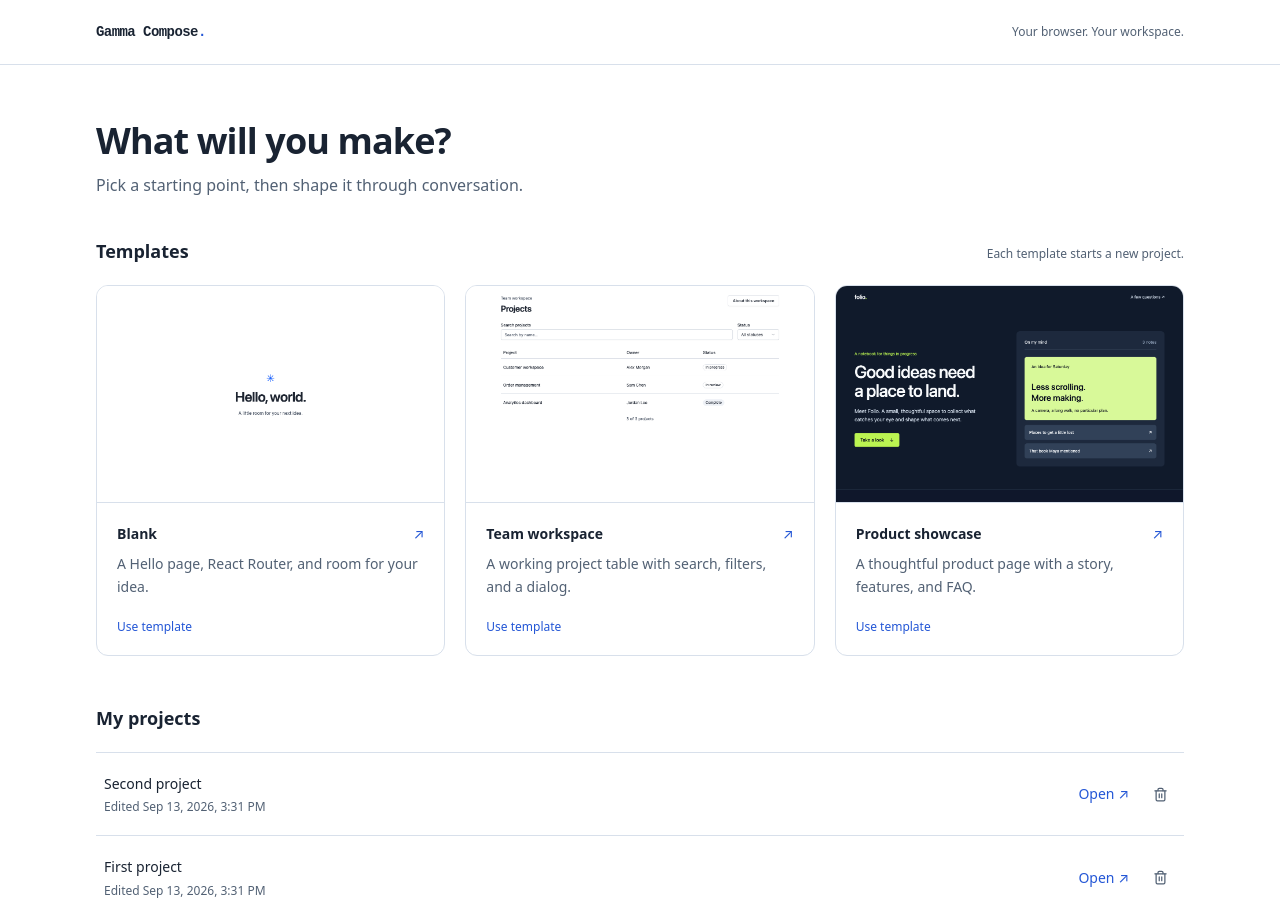
Test case: gallery and project navigation › confirms project deletion, supports cancellation and shows the empty state
The image size is (1280, 900).
Click the button named "Delete First project": (1160, 878) [1145,862,1176,893]
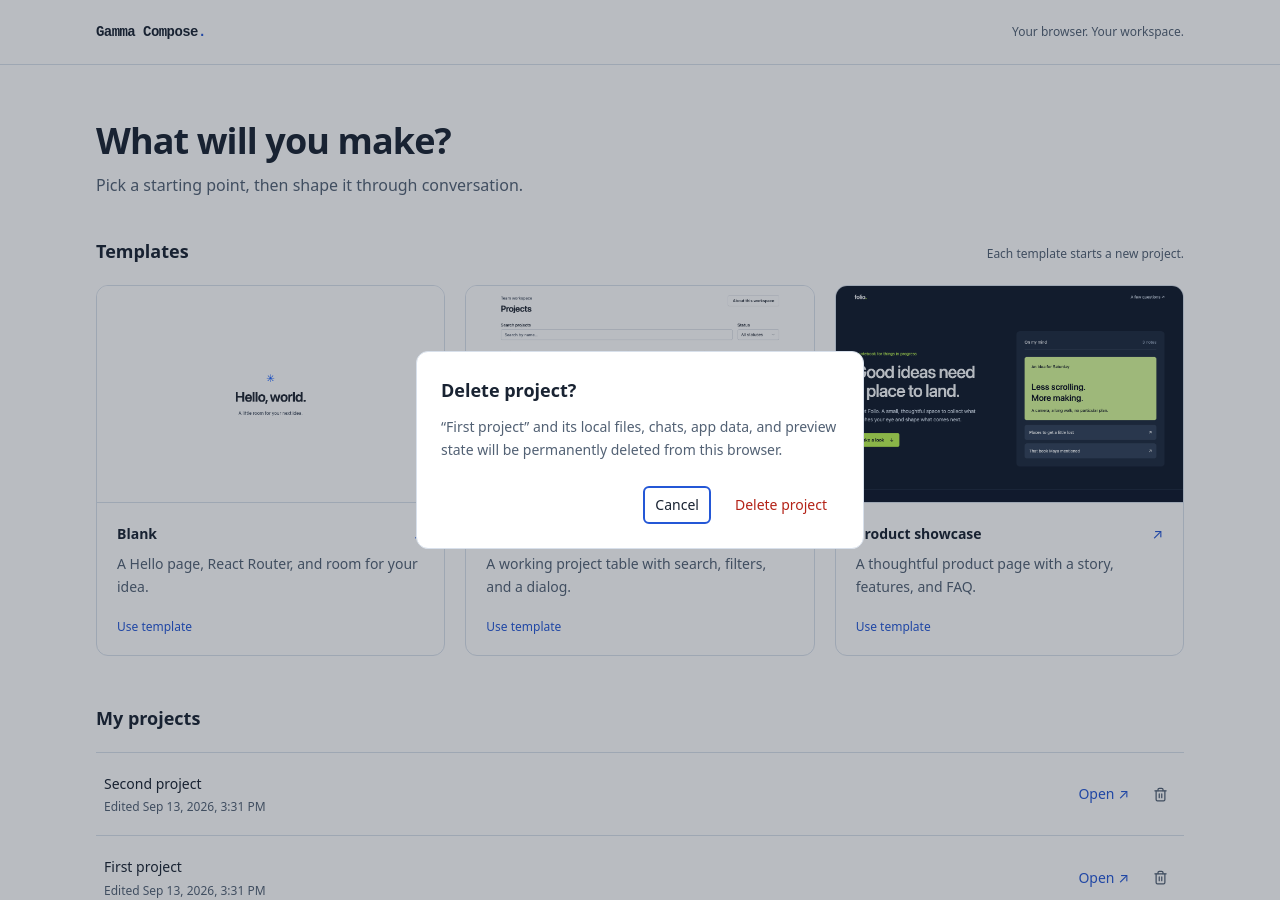
Expected: the dialog "Delete project?" shows "First project", [446,417,524,436]
Expected: the dialog "Delete project?" shows "files, chats, app data, and preview state", [441,417,836,459]
Click the button "Cancel": (677, 505) [643,486,711,524]
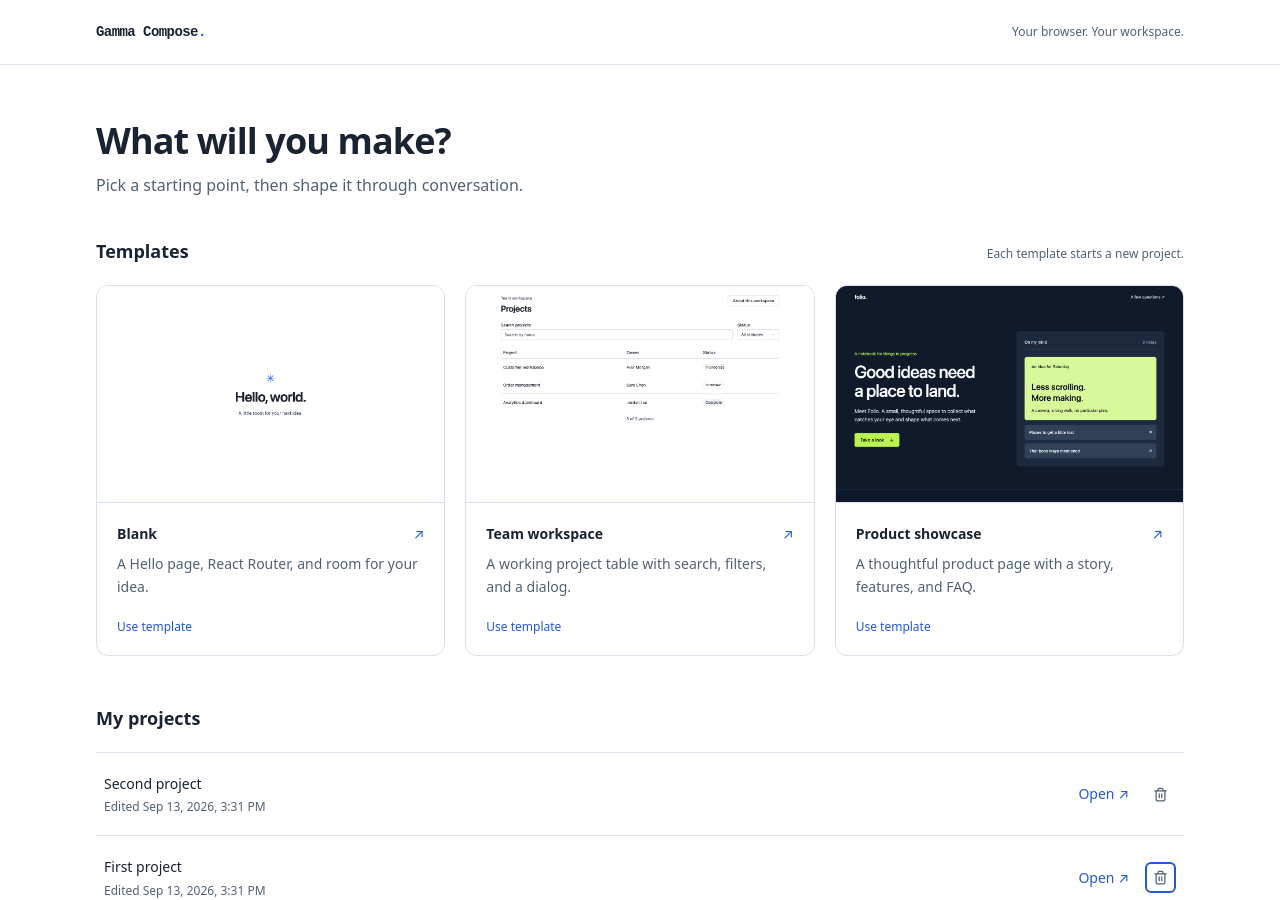
Expected: the link "First project Edited Sep 13, 2026, 3:31 PM Open ↗" is shown, [104,857,1129,899]
Click the button named "Delete First project": (1160, 878) [1145,862,1176,893]
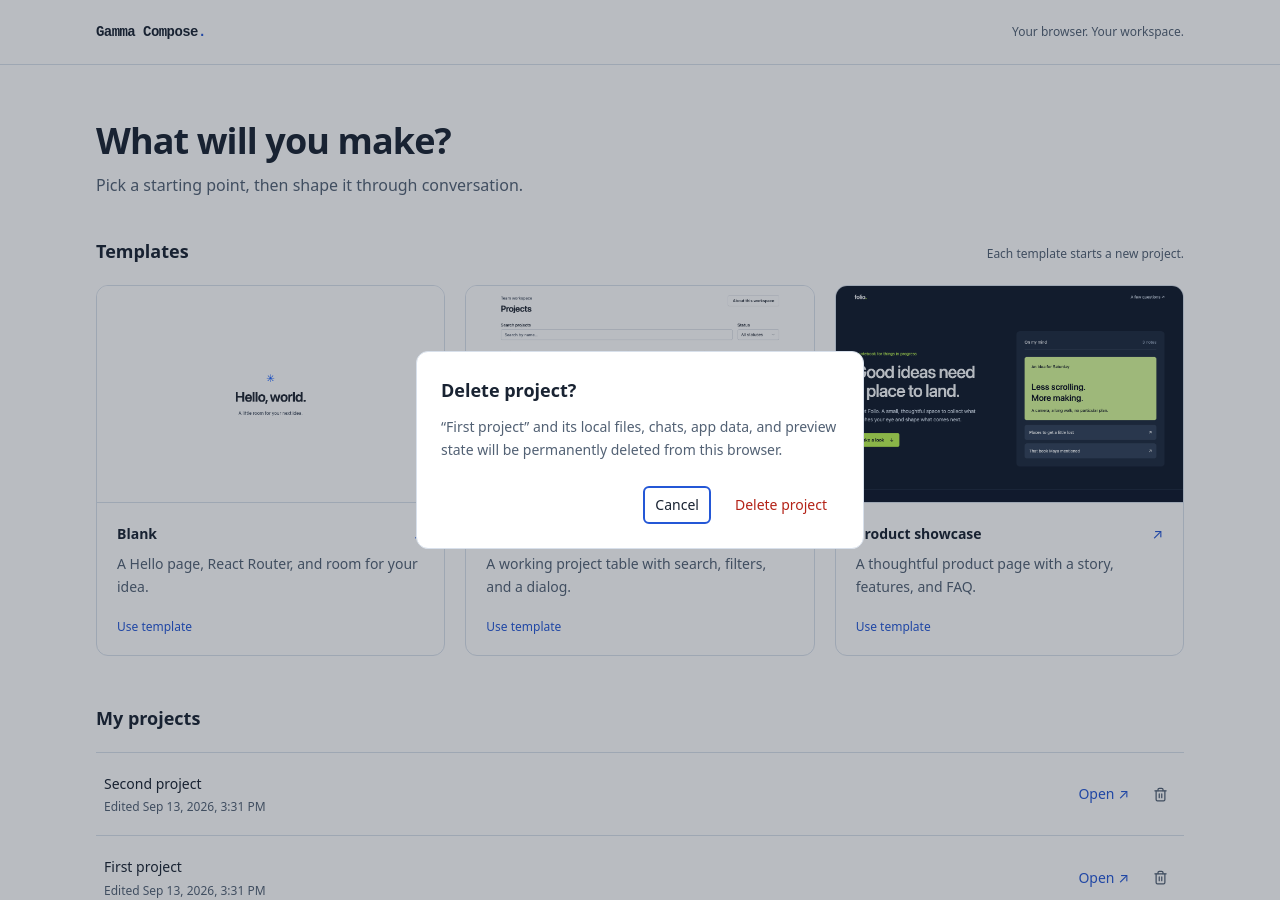
Click the button "Delete project": (781, 505) [723,486,839,524]
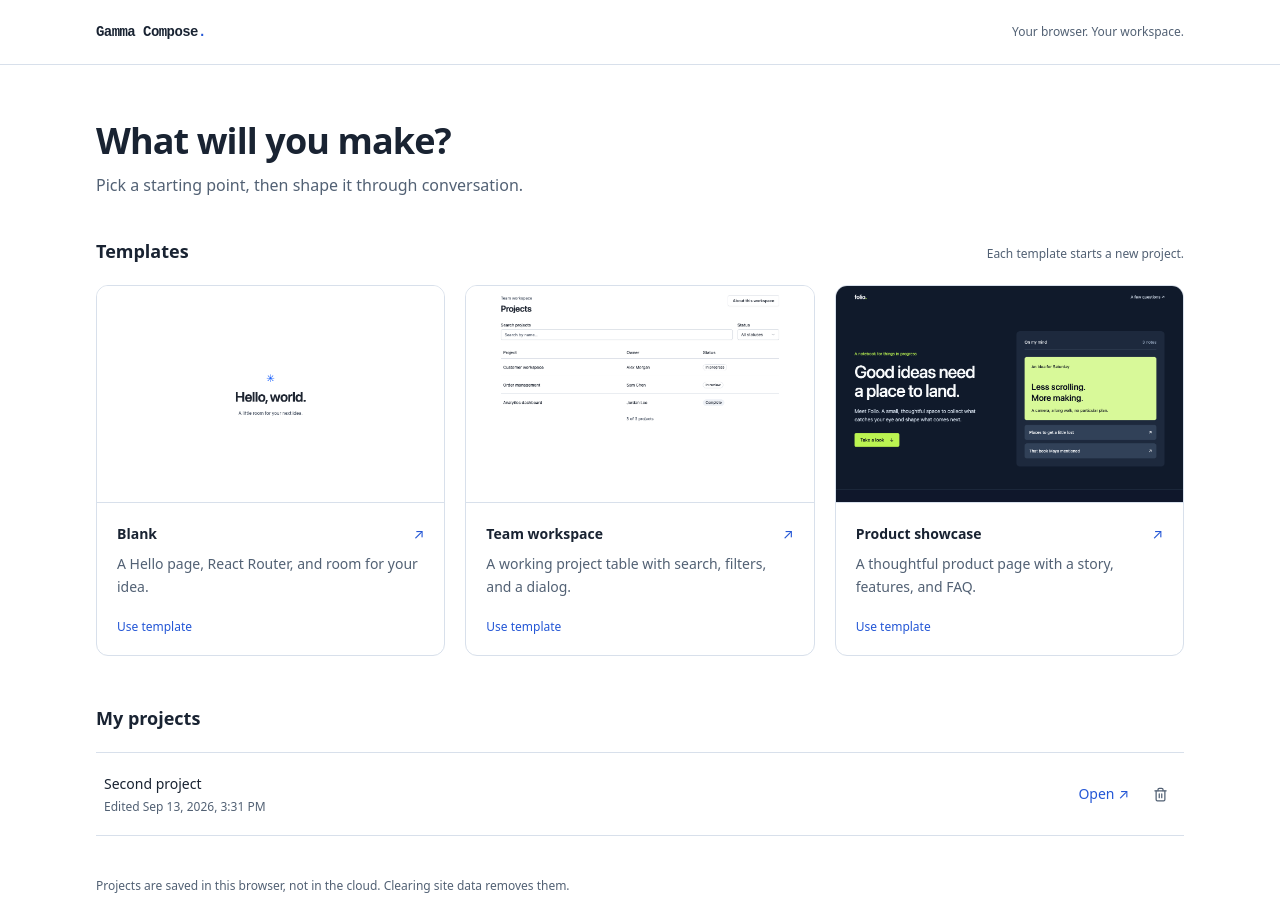
Expected: the link "Second project Edited Sep 13, 2026, 3:31 PM Open ↗" is shown, [104,774,1129,815]
Expected: the link "First project" is gone
Click the button named "Delete Second project": (1160, 794) [1145,779,1176,810]
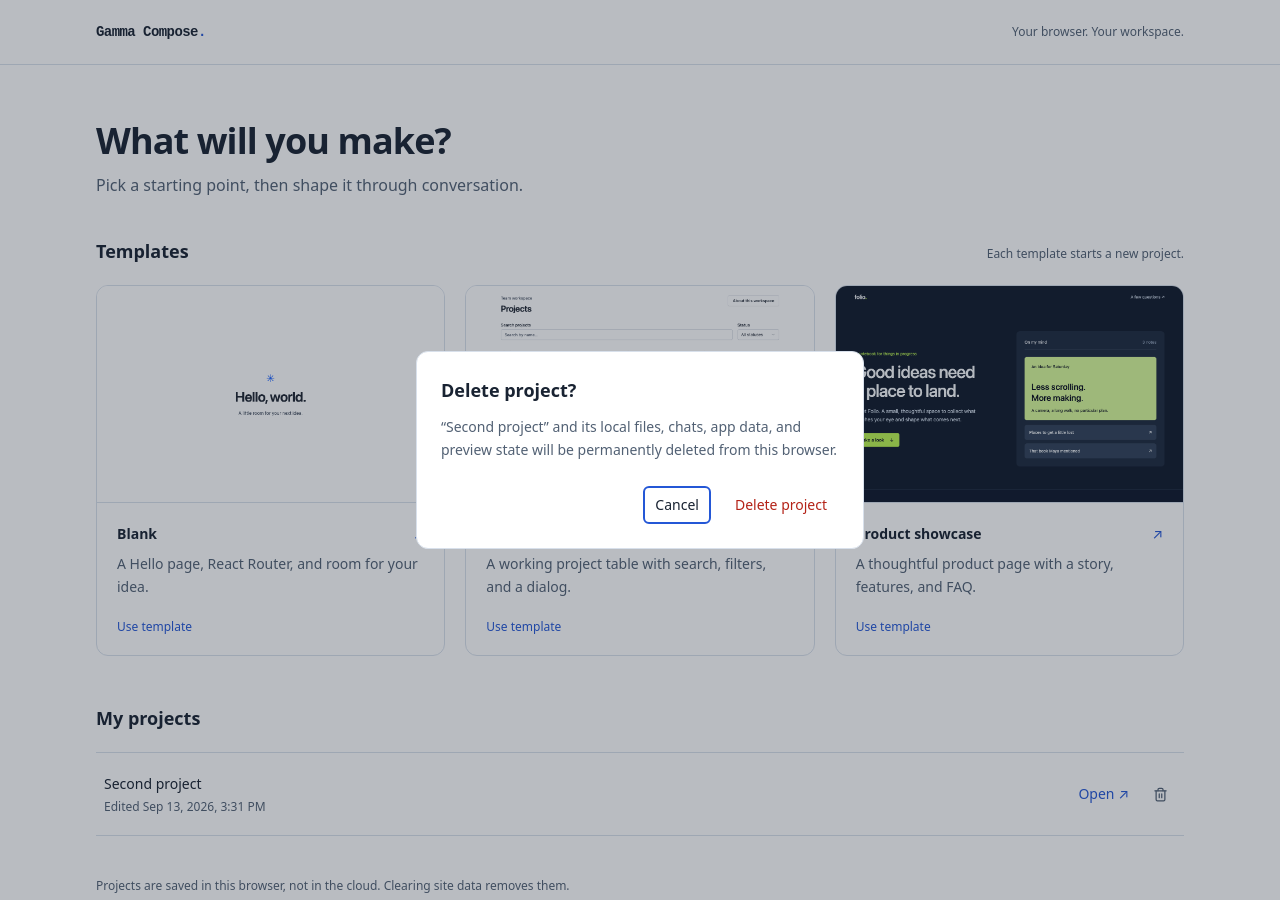
Click the button "Delete project": (781, 505) [723,486,839,524]
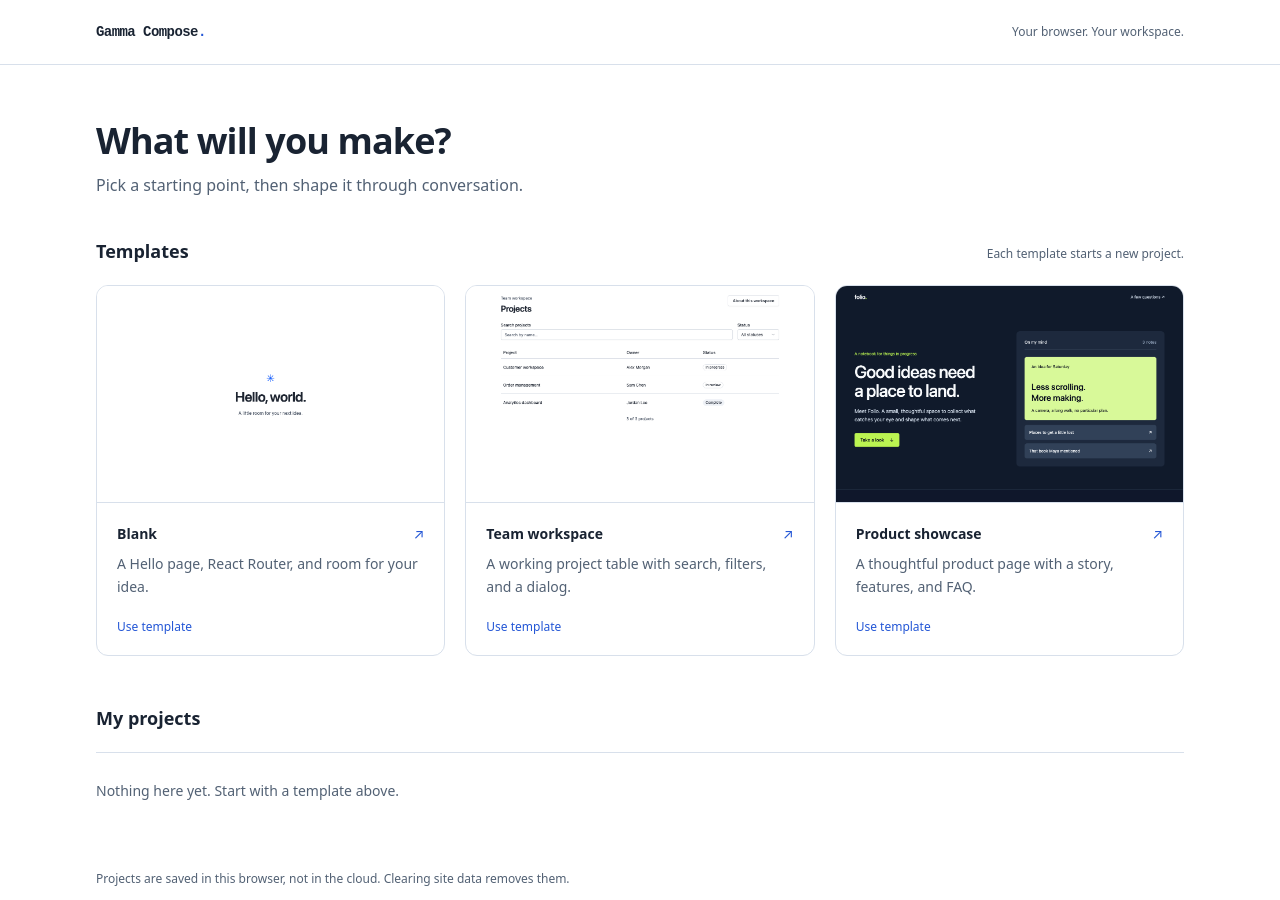
Expected: the text "Nothing here yet. Start with a template above." is shown, [96,752,1184,829]
